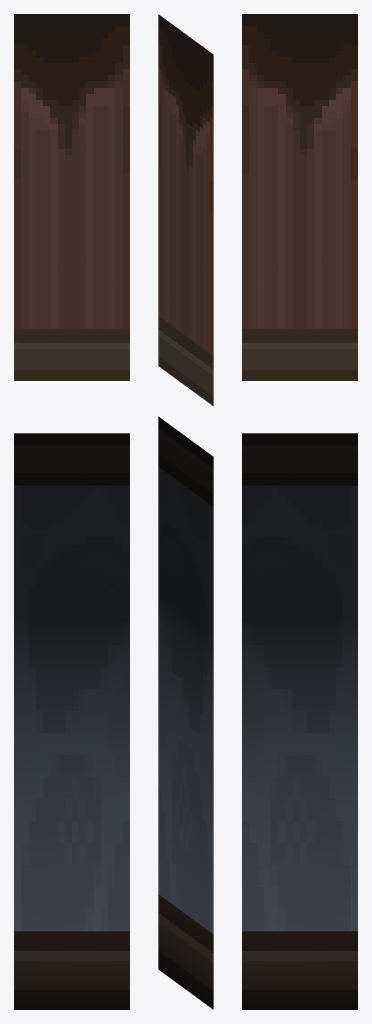
3 renders of one model, left to right at view 1: azimuth 90°, elevation 25°; view 2: azimuth 210°, elevation 25°; view 3: azimuth 270°, elevation 25°, orthographic. The views are drawn at different scales.
Bounding box in the file's own units: 0 × 9.5 × 1.
Materials: 5 (5 with a texture image).
